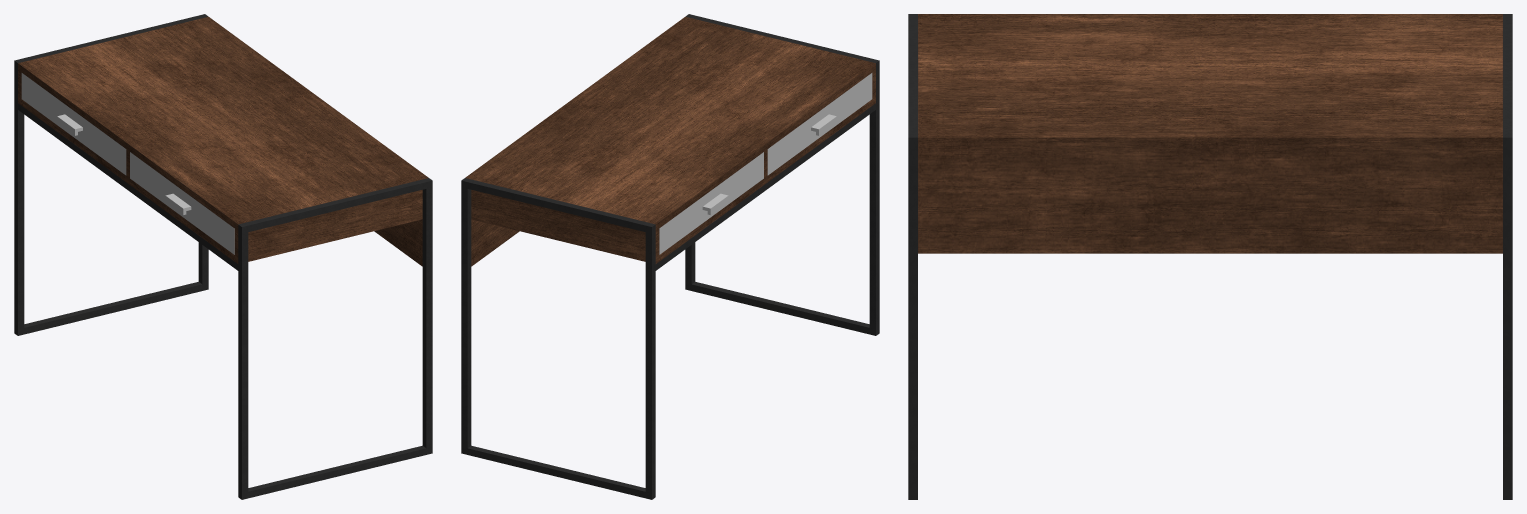
File: Desk.dae
3 views of the same model, side by side, from view 1: azimuth 30°, elevation 25°; view 2: azimuth 150°, elevation 25°; view 3: azimuth 270°, elevation 25° (orthographic). The views are drawn at different scales.
Parts seen in each view (by area): view 1: Desk.001, Drawer 1, Drawer 1.001; view 2: Desk.001, Drawer 1.001, Drawer 1; view 3: Desk.001.
Part boxes in pixels (box(x1,y1,x2,y2)): Desk.001: box(14, 14, 432, 499); Drawer 1: box(21, 73, 126, 175); Drawer 1.001: box(130, 152, 234, 254); Desk.001: box(461, 14, 879, 499); Drawer 1.001: box(767, 73, 872, 175); Drawer 1: box(659, 152, 763, 254); Desk.001: box(908, 14, 1512, 499).
Bounding box in the file's own units: 0.625 × 1.24 × 0.82.
